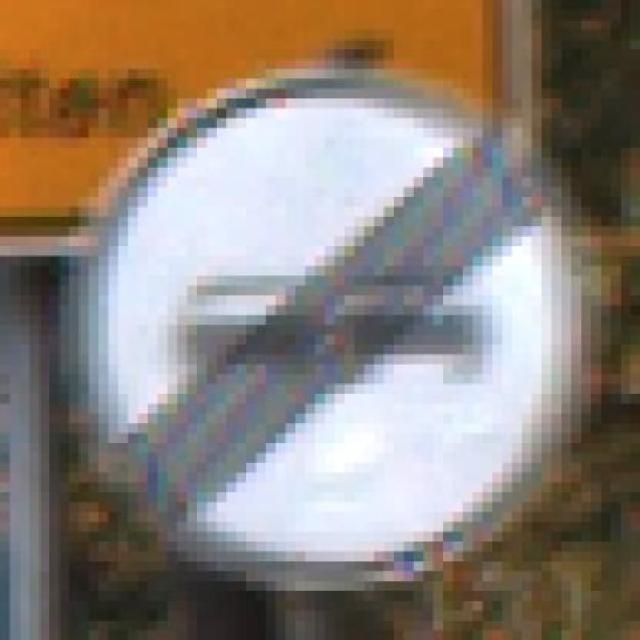No_Over_Taking: (39, 29, 601, 591)
